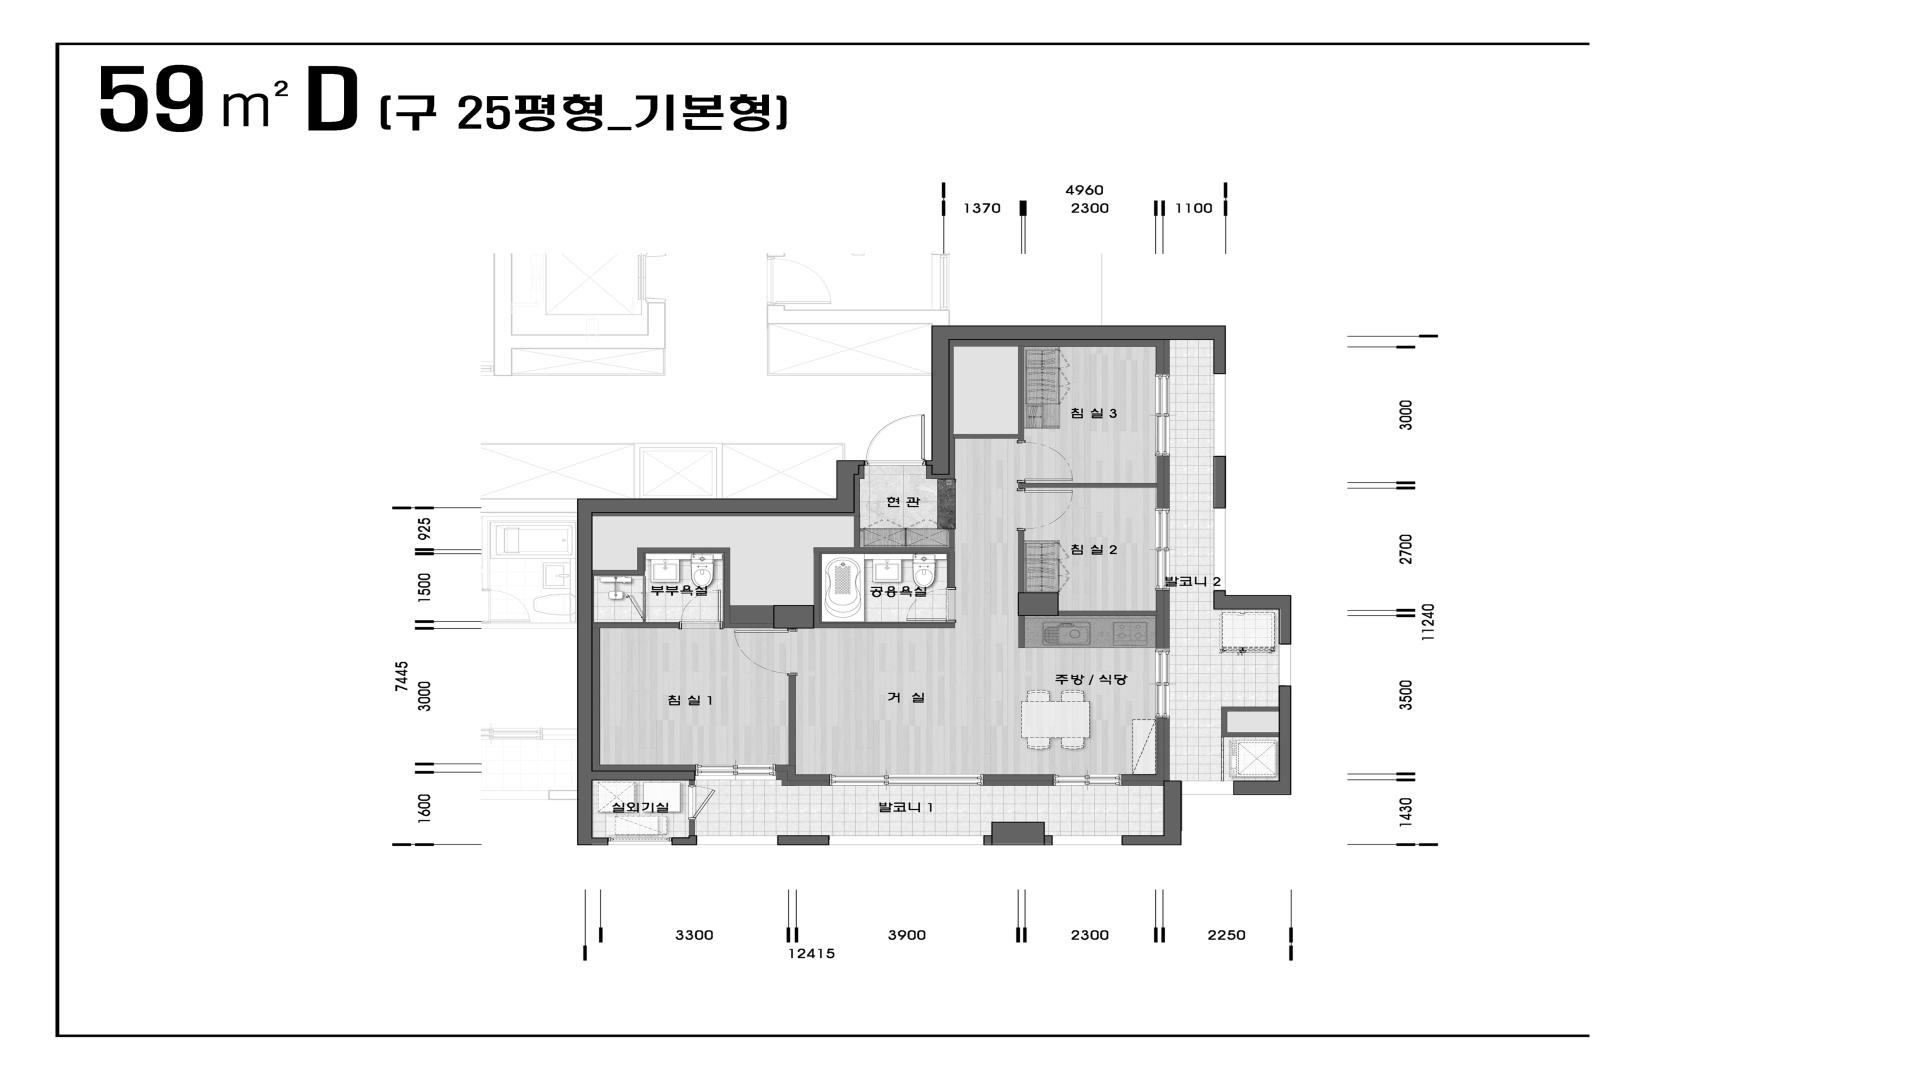door: (767, 256, 832, 306), (864, 414, 926, 465), (733, 629, 798, 675), (1017, 488, 1073, 530), (1017, 440, 1072, 483), (906, 587, 956, 622), (679, 589, 723, 629), (688, 785, 716, 819), (626, 592, 646, 620)
wall: (578, 513, 593, 845), (931, 326, 1213, 340), (578, 498, 836, 513), (767, 306, 949, 326), (926, 340, 949, 475), (493, 253, 512, 376), (512, 335, 647, 349), (836, 460, 865, 513), (1213, 591, 1291, 609), (992, 822, 1044, 845), (1279, 686, 1291, 781), (592, 770, 695, 781), (773, 605, 815, 629), (1163, 781, 1182, 835), (1018, 592, 1059, 616), (814, 547, 955, 554), (647, 302, 666, 349), (1233, 781, 1291, 795), (775, 771, 829, 786), (814, 622, 955, 628), (1018, 483, 1158, 488), (1213, 456, 1226, 509), (1213, 326, 1226, 375), (1018, 345, 1025, 440), (1122, 835, 1182, 845), (723, 547, 731, 624), (789, 675, 795, 765), (592, 622, 679, 629), (637, 547, 723, 554), (777, 835, 829, 845), (814, 554, 822, 622), (1059, 611, 1158, 616), (640, 443, 723, 448), (767, 373, 932, 376), (1018, 530, 1025, 592), (1279, 609, 1291, 644), (512, 373, 663, 376), (1163, 591, 1170, 650), (984, 781, 1054, 786), (634, 443, 641, 498), (953, 434, 1018, 439), (716, 448, 723, 498), (1164, 719, 1170, 781), (1221, 707, 1279, 712), (592, 570, 645, 575), (1164, 456, 1170, 509), (671, 835, 698, 845), (1228, 732, 1279, 737), (947, 554, 955, 587), (1163, 340, 1170, 375), (1121, 781, 1163, 786), (1018, 616, 1025, 647), (481, 443, 634, 444), (724, 624, 774, 628), (855, 516, 860, 547), (1221, 712, 1228, 737), (723, 443, 845, 444), (637, 554, 645, 570), (593, 837, 608, 845), (690, 819, 695, 835), (984, 835, 992, 845), (1044, 835, 1052, 845), (767, 323, 769, 375), (642, 575, 646, 592), (766, 253, 785, 256), (843, 444, 845, 460), (663, 349, 665, 376), (688, 781, 695, 785), (723, 622, 724, 628), (644, 620, 646, 622)
window: (829, 774, 984, 786), (829, 836, 984, 845), (695, 764, 775, 781), (1155, 375, 1170, 456), (1155, 509, 1170, 591), (1155, 650, 1170, 719), (1215, 375, 1226, 456), (1215, 509, 1226, 591), (932, 255, 949, 310), (698, 835, 777, 845), (1054, 774, 1121, 786), (1182, 781, 1233, 795), (1052, 836, 1122, 845), (1279, 644, 1291, 686), (608, 837, 671, 845)
